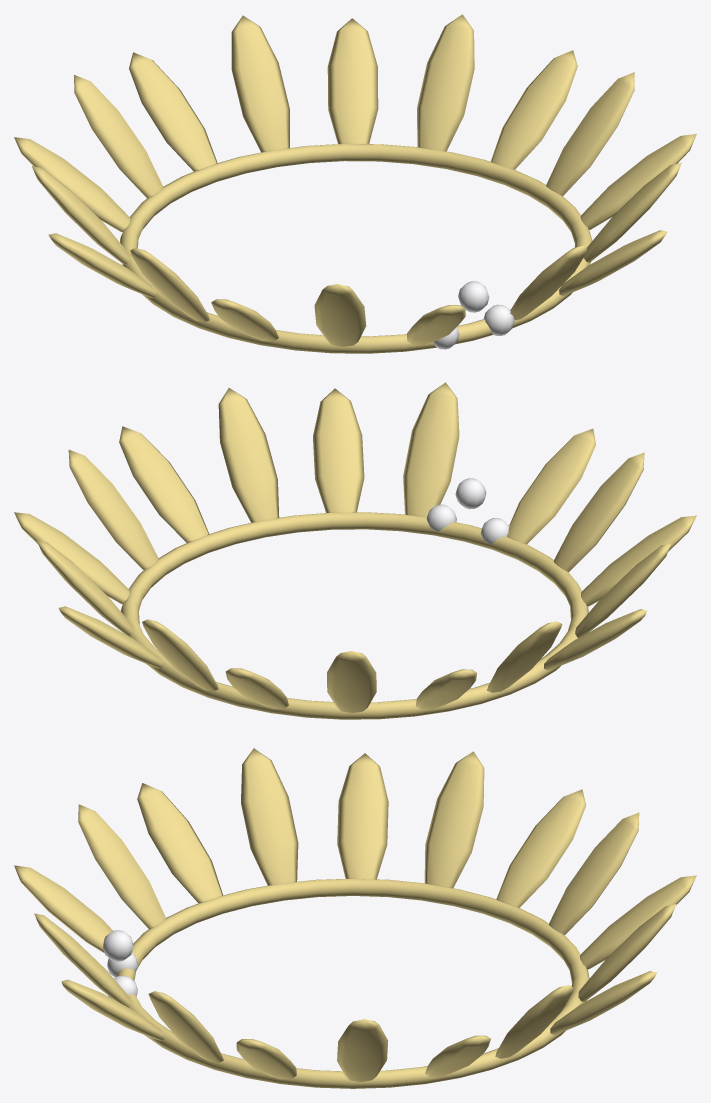
Rendered from laurel-meetup.glb.
The picture shows the model from 3 angles, top to bottom: view 1: azimuth 30°, elevation 25°; view 2: azimuth 150°, elevation 25°; view 3: azimuth 270°, elevation 25°; orthographic projection.
Visible parts, largest first — view 1: leaves, circlet, berries; view 2: leaves, circlet, berries; view 3: leaves, circlet, berries.
Boxes of the visible parts, x1=… form: leaves: x1=14, y1=14, x2=696, y2=346; circlet: x1=120, y1=144, x2=592, y2=353; berries: x1=433, y1=281, x2=514, y2=349; leaves: x1=14, y1=382, x2=696, y2=712; circlet: x1=120, y1=512, x2=588, y2=719; berries: x1=426, y1=478, x2=509, y2=543; leaves: x1=14, y1=748, x2=696, y2=1081; circlet: x1=117, y1=878, x2=589, y2=1088; berries: x1=103, y1=930, x2=137, y2=998.
Bounding box in the file's own units: 0.3105 × 0.0562 × 0.3111.
